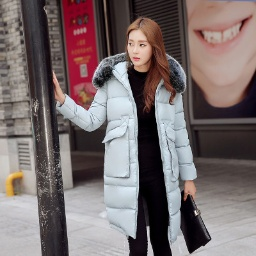face: (122, 19, 173, 84)
